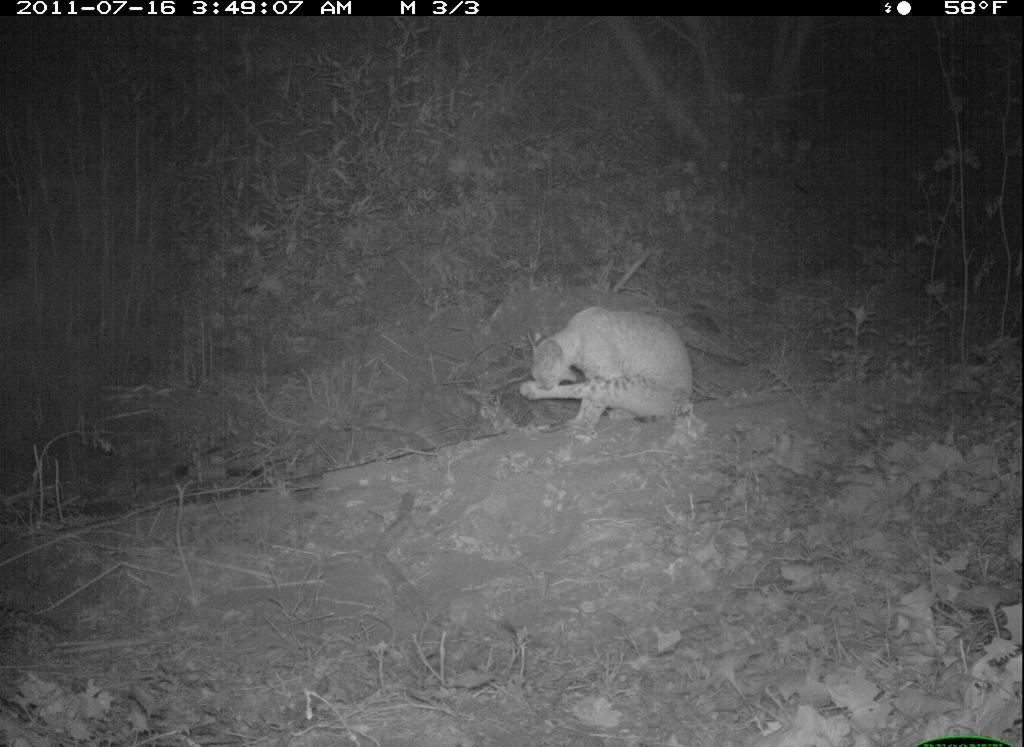bobcat: (518, 304, 699, 450)
